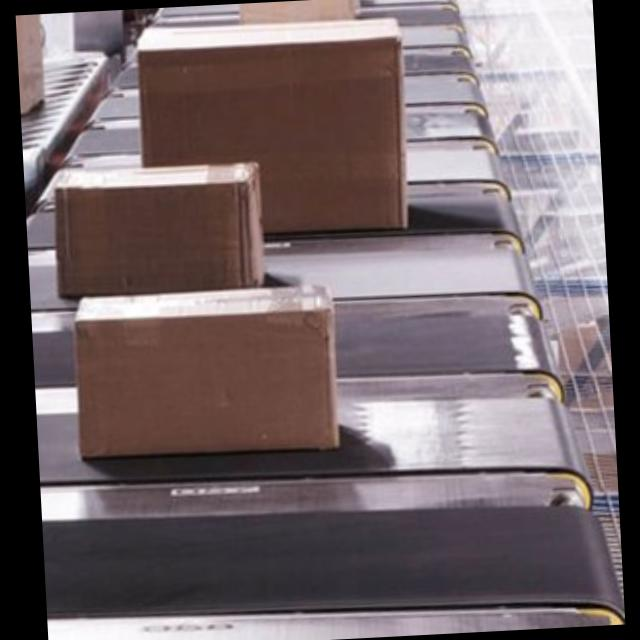box: (132, 12, 410, 247), (72, 286, 344, 467), (52, 156, 270, 302)
